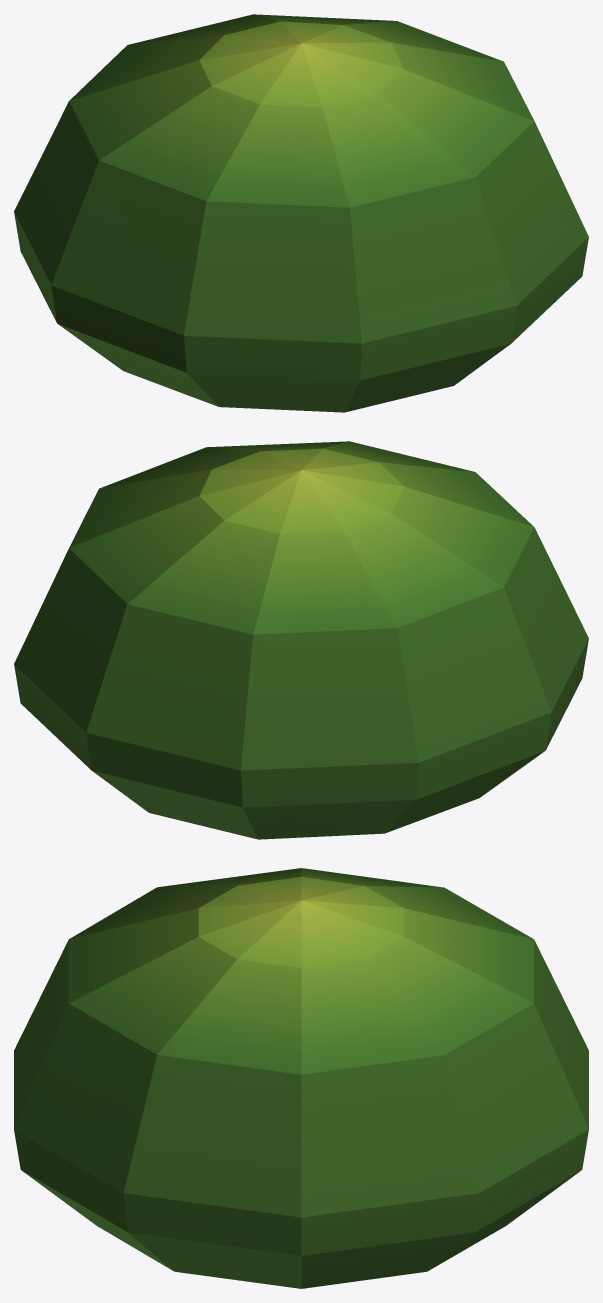
The model's file is Outer tree10.fbx.
The picture shows the model from 3 angles, top to bottom: view 1: azimuth 30°, elevation 25°; view 2: azimuth 150°, elevation 25°; view 3: azimuth 270°, elevation 25°; orthographic projection. The views are drawn at different scales.
Parts seen in each view (by area): view 1: Outer_tree10; view 2: Outer_tree10; view 3: Outer_tree10.
Part boxes in pixels (x1,y1,x2,y2): Outer_tree10: [14, 14, 588, 412]; Outer_tree10: [14, 441, 588, 839]; Outer_tree10: [14, 868, 588, 1288].
Bounding box in the file's own units: 180 × 109 × 171.
Materials: 1 (1 with a texture image).
